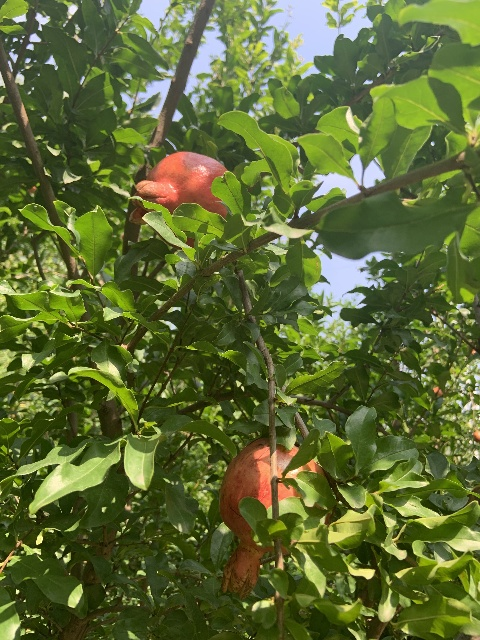ripe: (218, 437, 330, 600), (128, 151, 232, 250)
